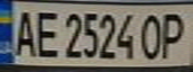2: (96, 10, 121, 60), (60, 8, 84, 60)
4: (115, 10, 139, 61)
5: (78, 8, 100, 60)
A: (9, 6, 39, 58)
E: (30, 7, 60, 60)
O: (136, 10, 166, 61)
P: (157, 9, 190, 60)
